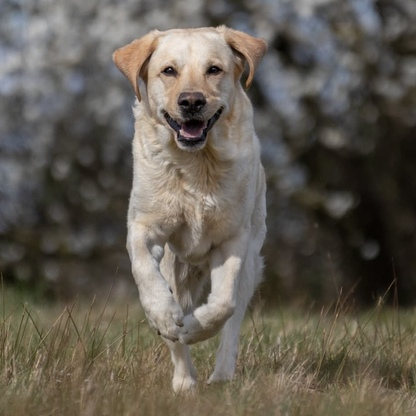labrado: (109, 21, 272, 398)
